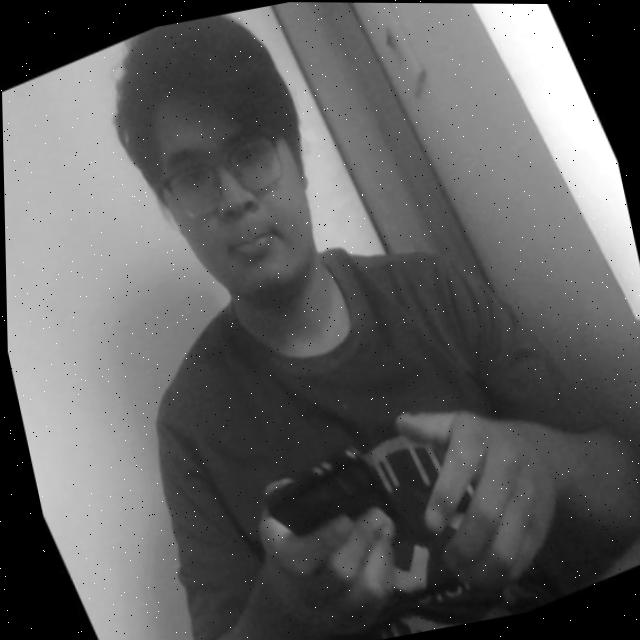phone: (243, 421, 416, 595)
